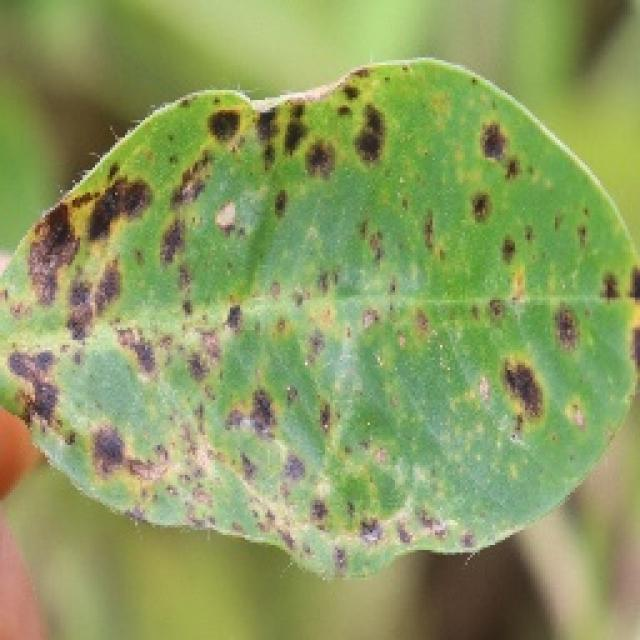Yellowish: (0, 75, 640, 562)
